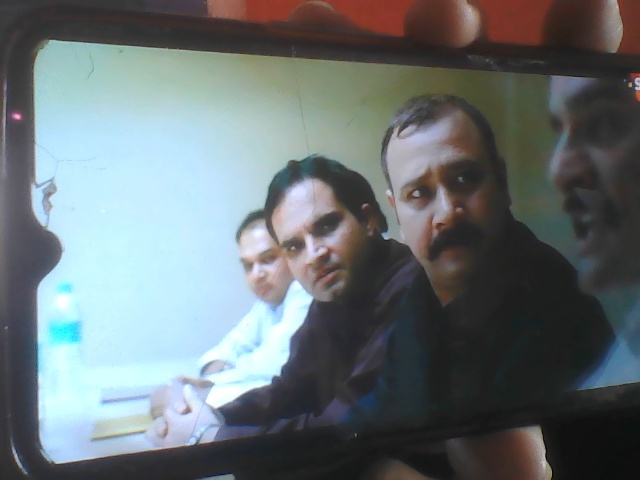fake: (378, 82, 528, 294), (256, 146, 383, 326)
